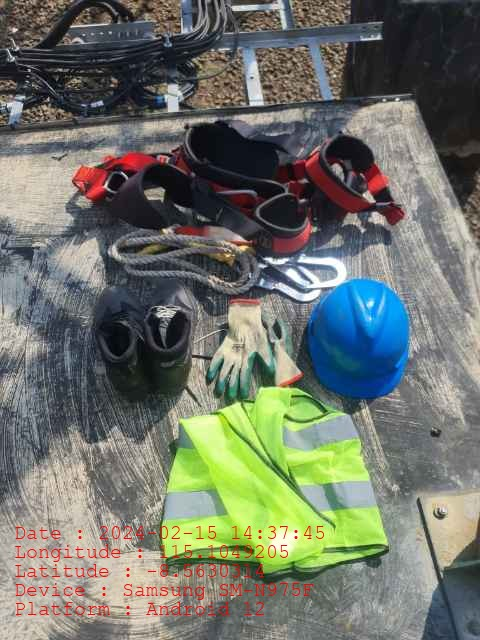HELM: (305, 277, 410, 398)
SARUNG_TANGAN: (206, 298, 271, 399)
SEPATU: (93, 278, 191, 401)
